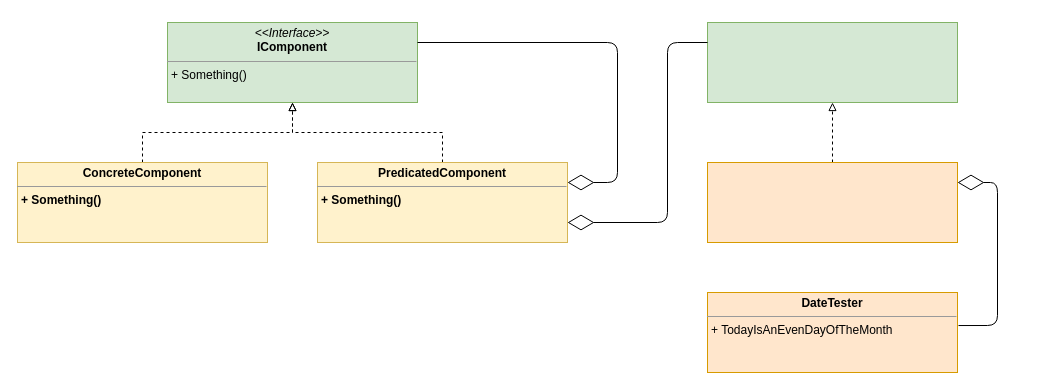
The diagram is 1041 pixels wide and 390 high, and some of its shapes have lost their labels. The shapes that lost their labels are listed below. From the top down, each one's box as (x1, y1, x2, y2) in pixels, then its label:
(706, 22, 958, 102): <<Interface>> IPredicate + Test(): bool
(706, 162, 958, 242): TodayIsAnEvenDayOfTheMonthPredicate + Test():bool
